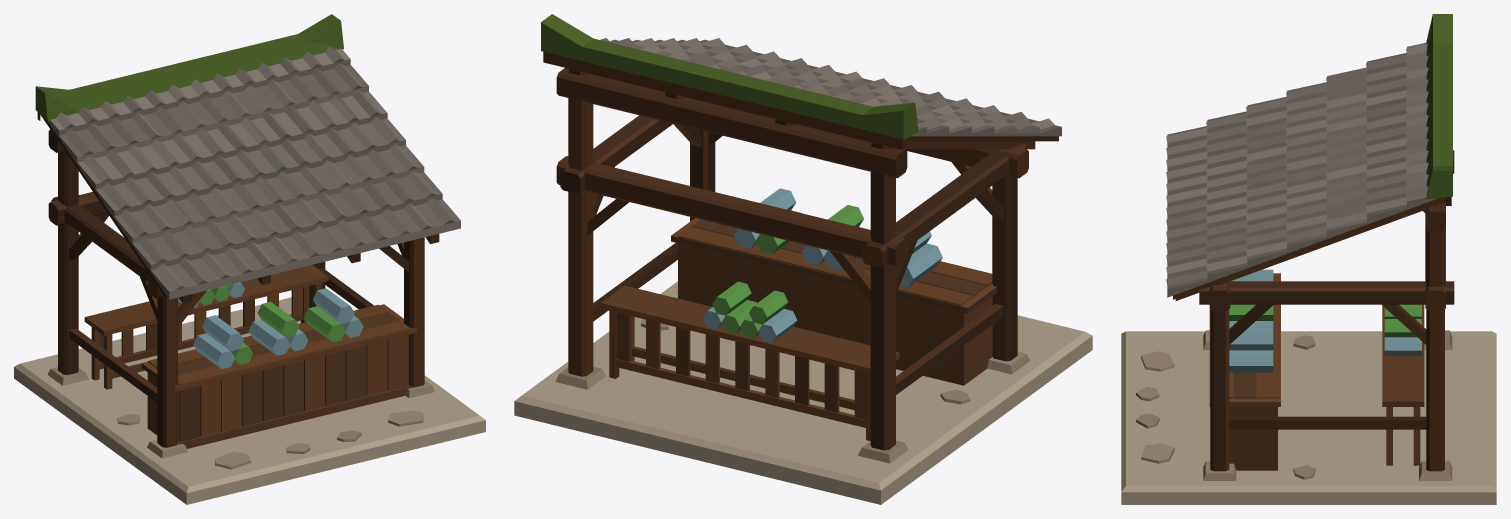
Rendered from market-stall-9d0b29.glb.
3 renders of one model, left to right at view 1: azimuth 30°, elevation 25°; view 2: azimuth 150°, elevation 25°; view 3: azimuth 270°, elevation 25°, orthographic. The views are drawn at different scales.
Visible parts, largest first — view 1: stall, wares-mesh; view 2: stall, wares-mesh; view 3: stall, wares-mesh.
Part boxes in pixels (x1,y1,x2,y2): stall: (14,14,485,504); wares-mesh: (178,282,363,369); stall: (514,14,1092,504); wares-mesh: (703,188,942,342); stall: (1121,14,1496,504); wares-mesh: (1229,269,1421,372).
Size of the model in its own units: 4 by 3.92 by 4.
